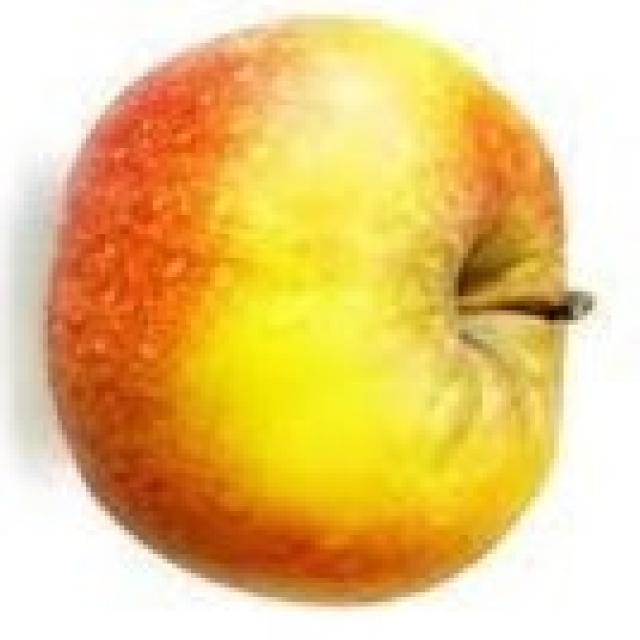75-_ripeness: (52, 18, 572, 606)
